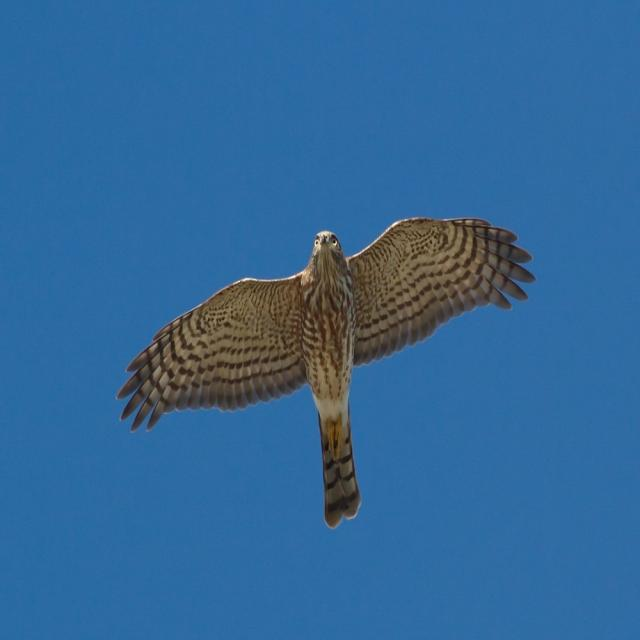bird: (108, 214, 538, 536)
